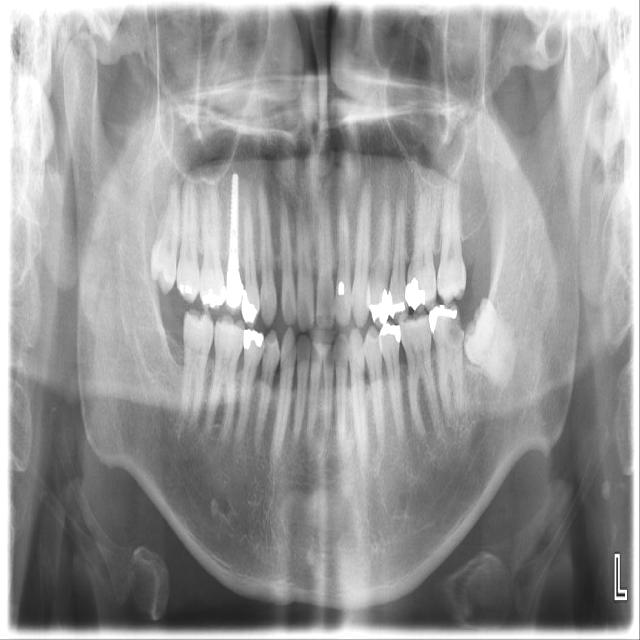Caries: (452, 305, 462, 346)
Crown: (224, 265, 245, 310)
Filling: (428, 305, 458, 335), (369, 288, 390, 325), (405, 278, 425, 310), (387, 290, 405, 323), (241, 289, 258, 323), (202, 286, 226, 308), (379, 322, 401, 343), (243, 329, 264, 350), (338, 281, 345, 295), (185, 285, 192, 293), (180, 284, 184, 294)
Implant: (228, 172, 241, 274)
impacted tooth: (464, 297, 515, 388)
